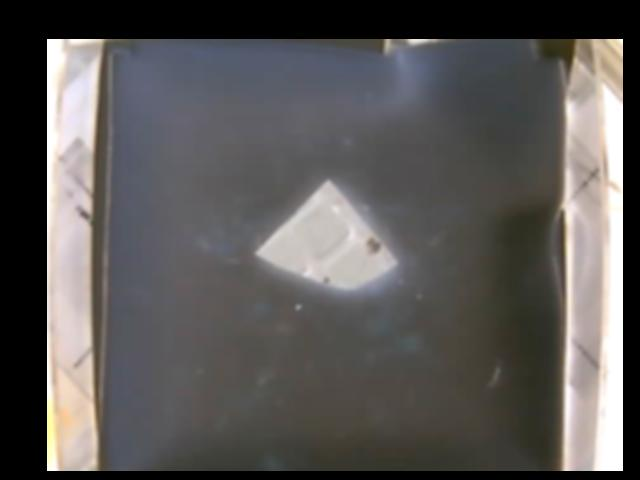China: (254, 181, 397, 287)
